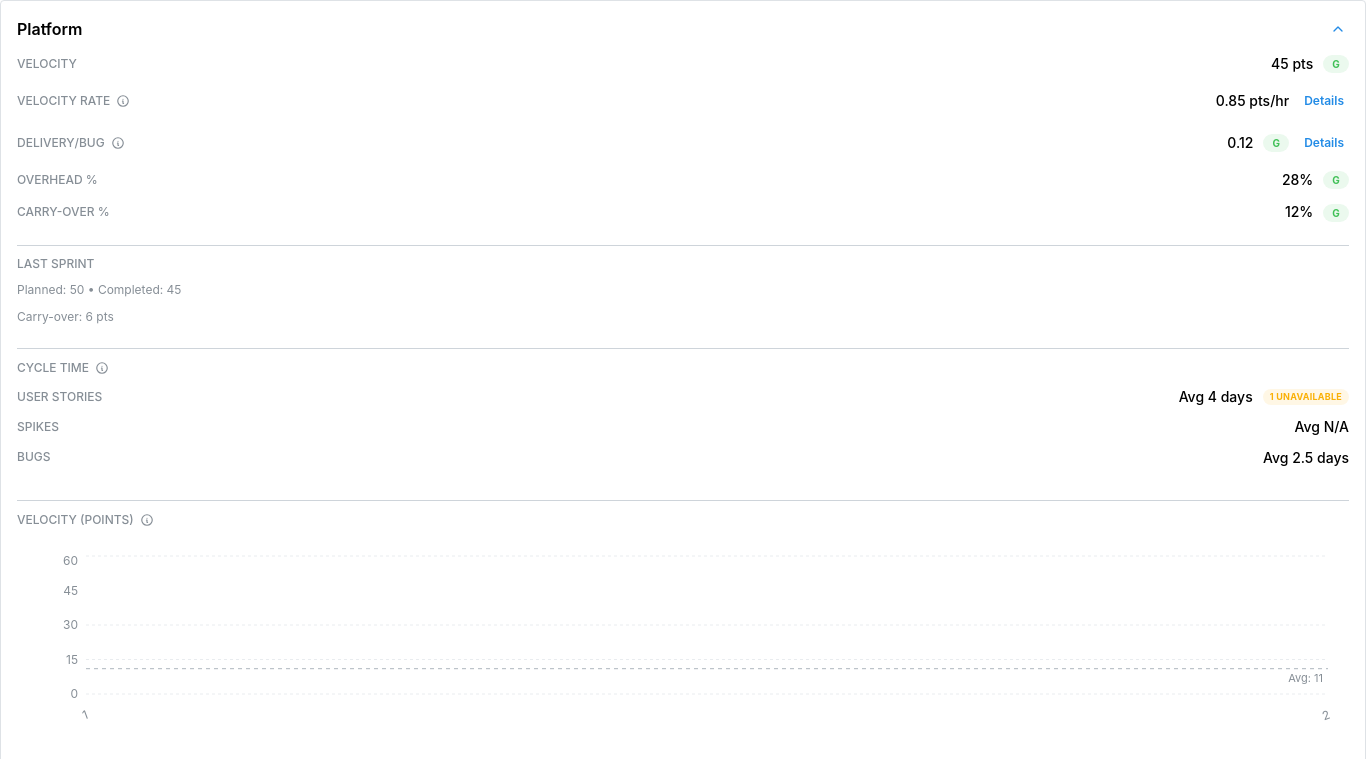
WorkstreamHealthCard › opens rolling metric details for workstream Delivery/Bug
This screenshot has width=1366, height=759.
Click the button with aria-label "Open rolling details for Delivery/Bug in Platform": [1324, 143] box [1299,128,1349,158]
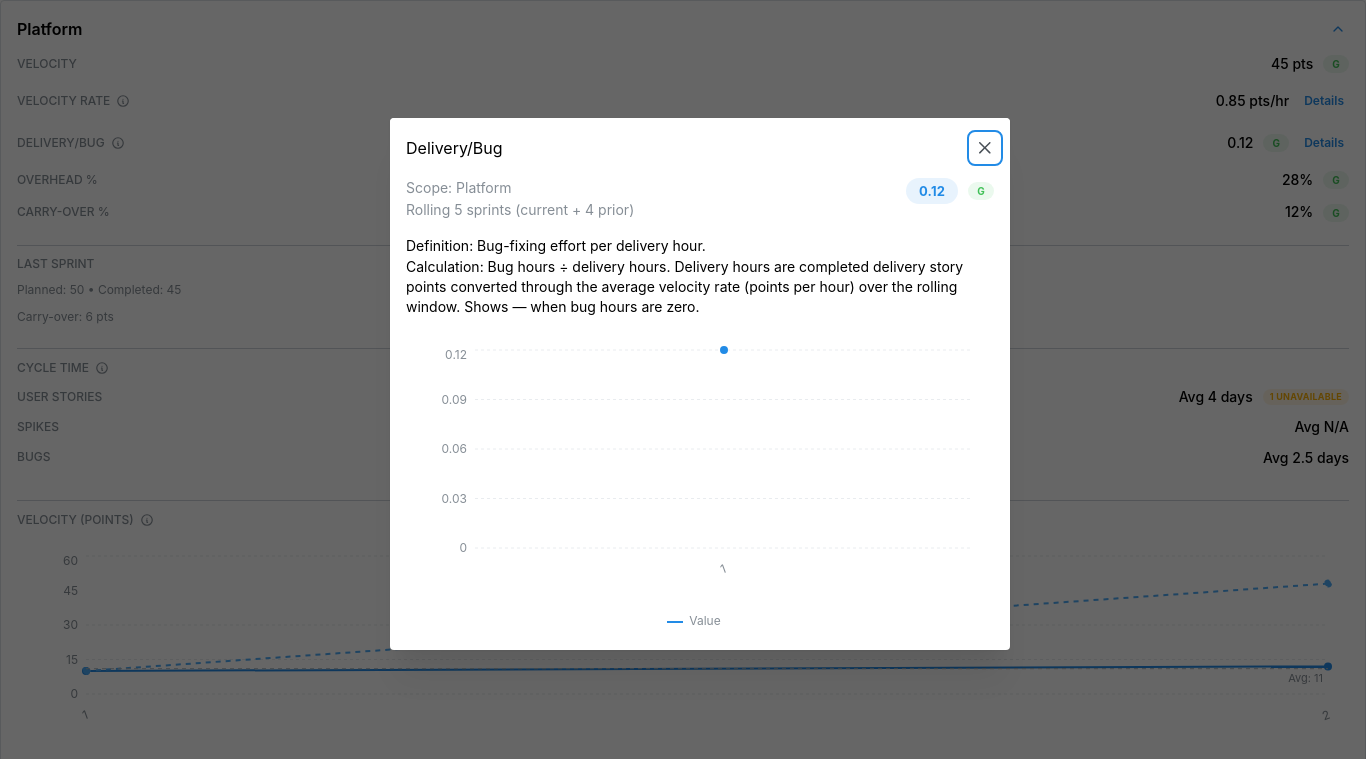
Expected: the dialog "Delivery/Bug" is shown, [390,118,1010,650]
Expected: the text "Scope: Platform" is shown, [406,179,512,196]
